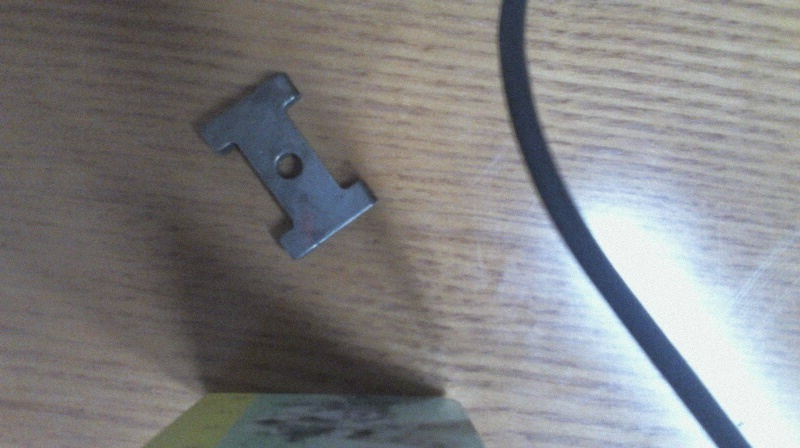O002: (192, 71, 383, 261)
